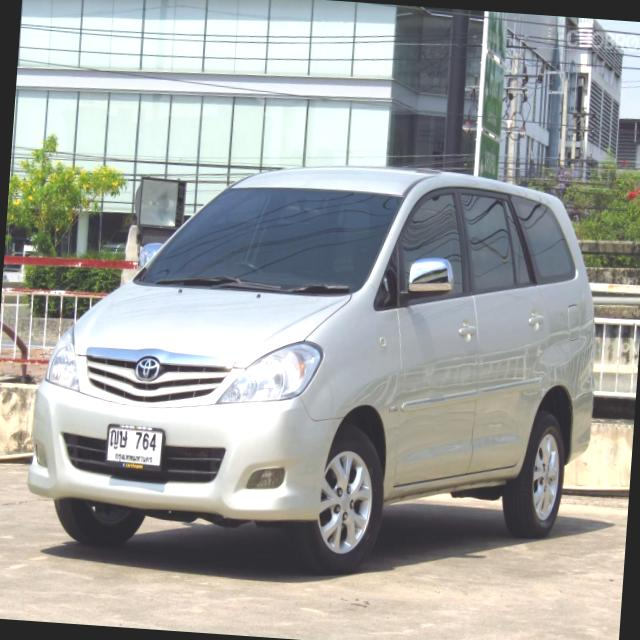license_plate: (102, 419, 168, 476)
